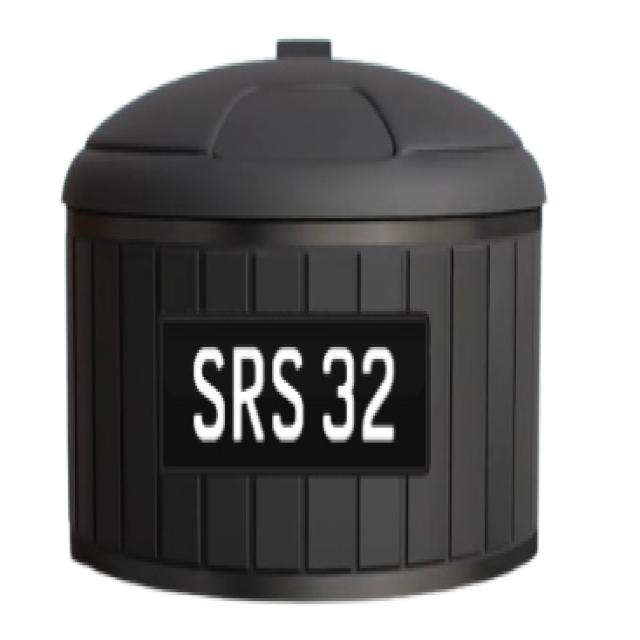bin_plate: (161, 314, 432, 469)
